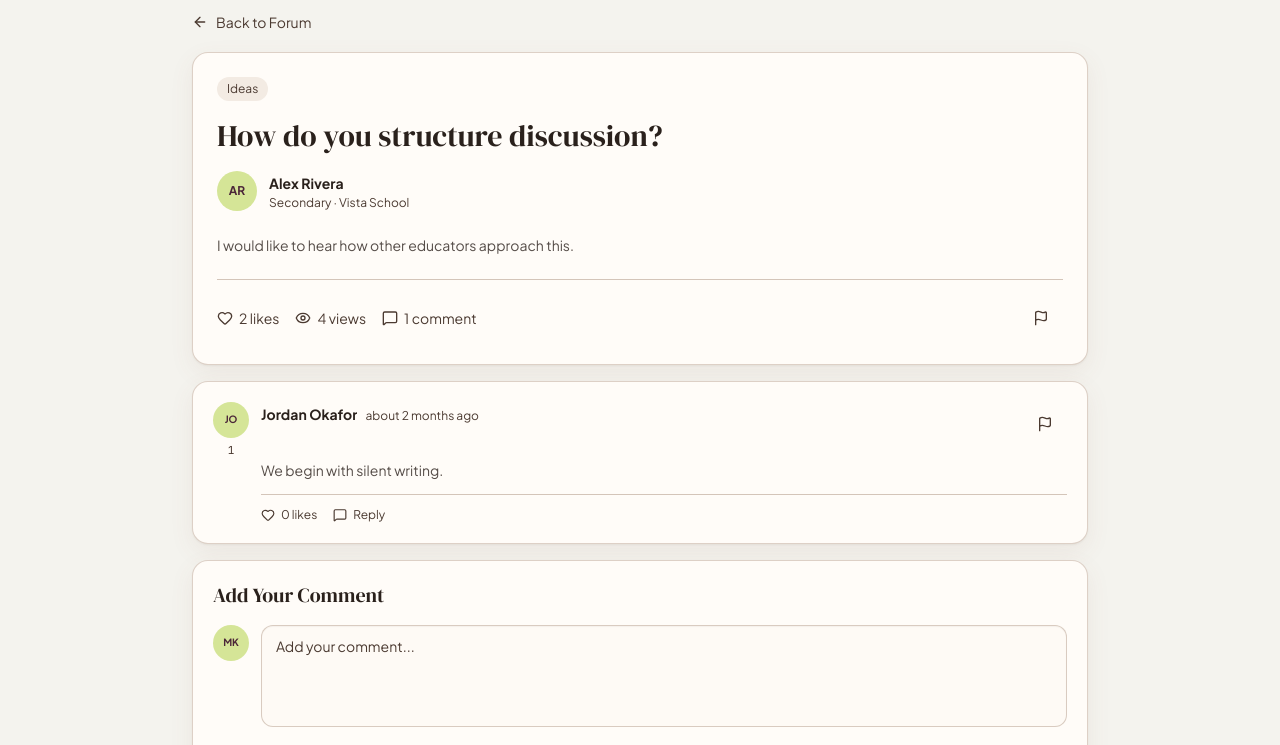
Scenario: ForumThreadExperience › uses comments and likes consistently and replies beneath a comment
The width and height of the screenshot is (1280, 745).
Expected: the text "1 comment" is shown, [382,308,477,328]
Expected: the heading "Add Your Comment" is shown, [213,580,384,608]
Click the button "Reply": (359, 514) [333,506,385,522]
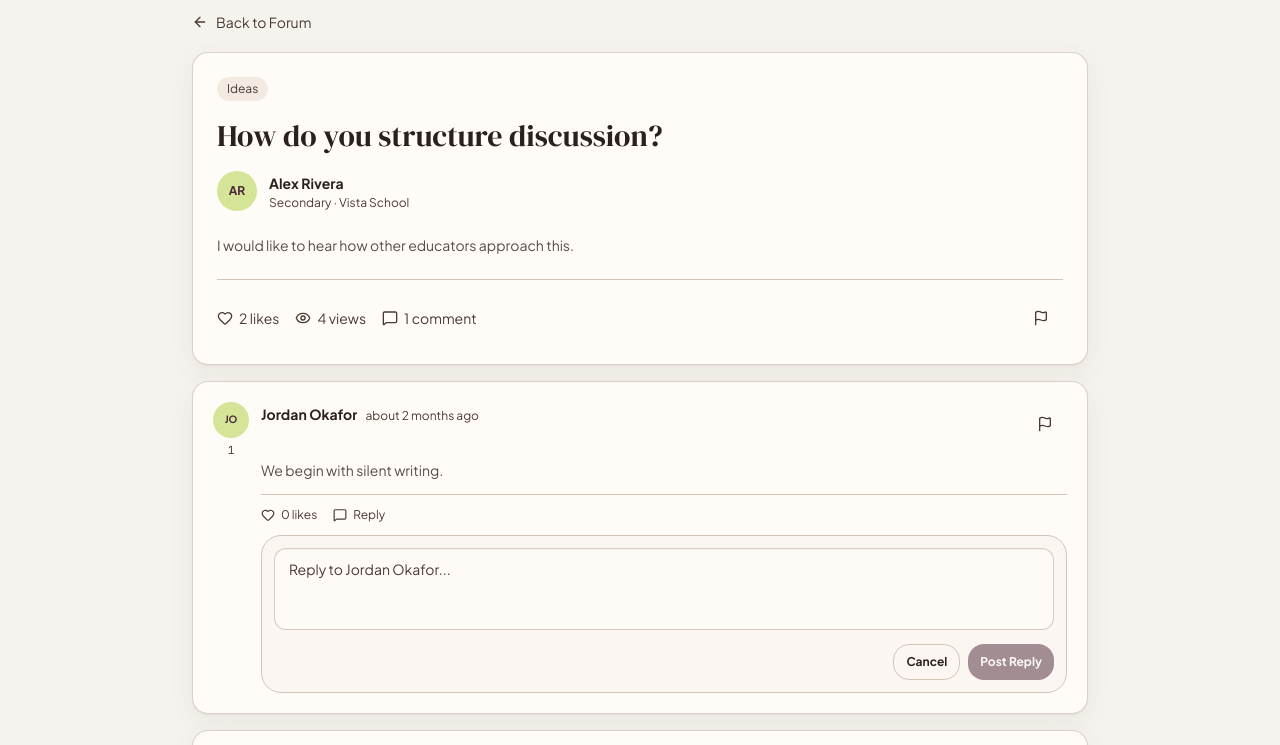
In the text box with placeholder "Reply to Jordan Okafor...": (664, 588) [274,548,1054,630], type "That is a useful approach."
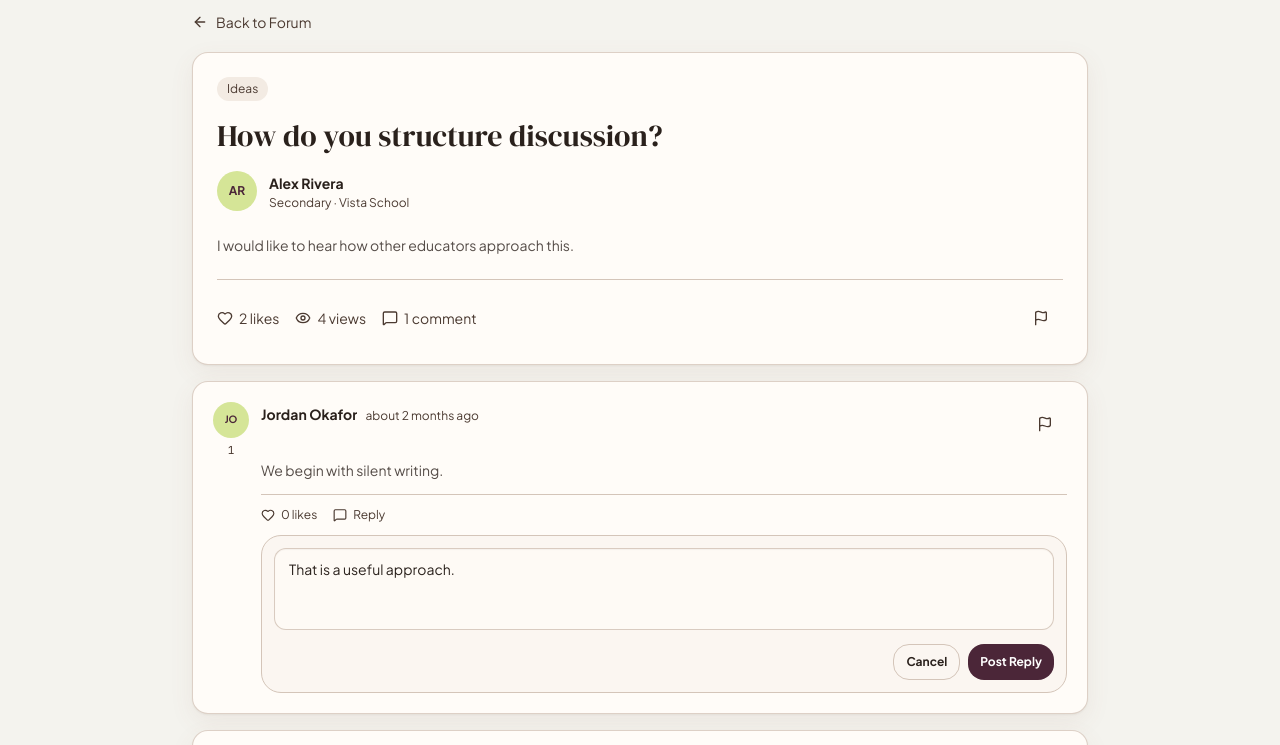
Click the button "Post Reply": (1011, 662) [968,644,1054,680]
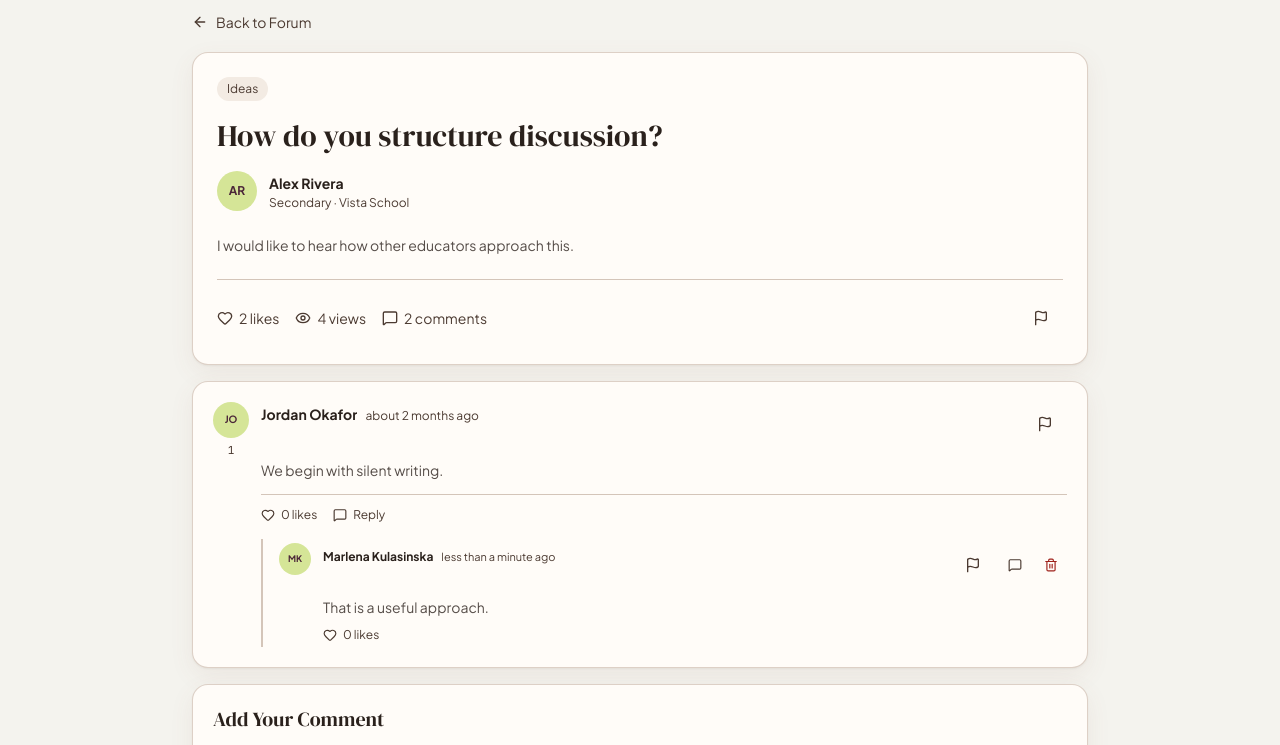
Expected: the number of buttons "0 likes" is 2, [261,506,317,522]; [323,626,379,642]
Now the text "2 comments" is shown, box [382,308,487,328]
